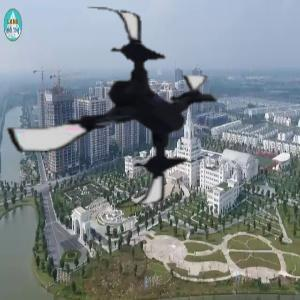drone: (6, 2, 223, 219)
